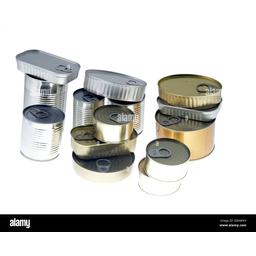metal: (7, 42, 90, 93), (76, 53, 149, 103), (146, 66, 225, 111)
